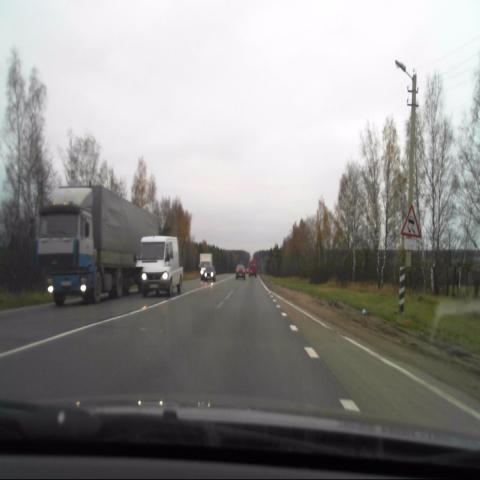1_15: (401, 206, 421, 238)
